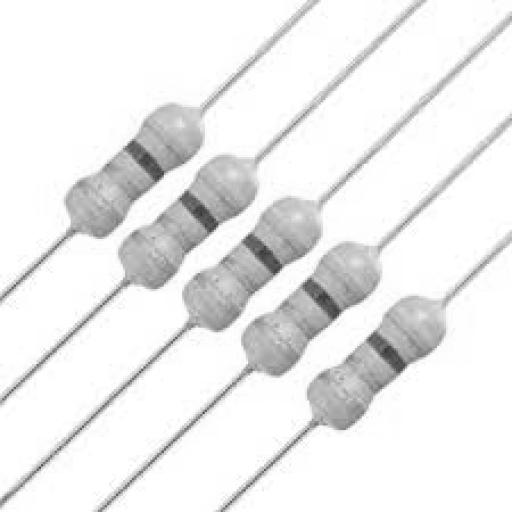RESISTOR: (190, 194, 442, 382), (138, 180, 386, 335), (22, 88, 220, 267), (65, 152, 268, 304), (268, 291, 468, 443)
